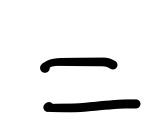eqv: (36, 55, 142, 113)
